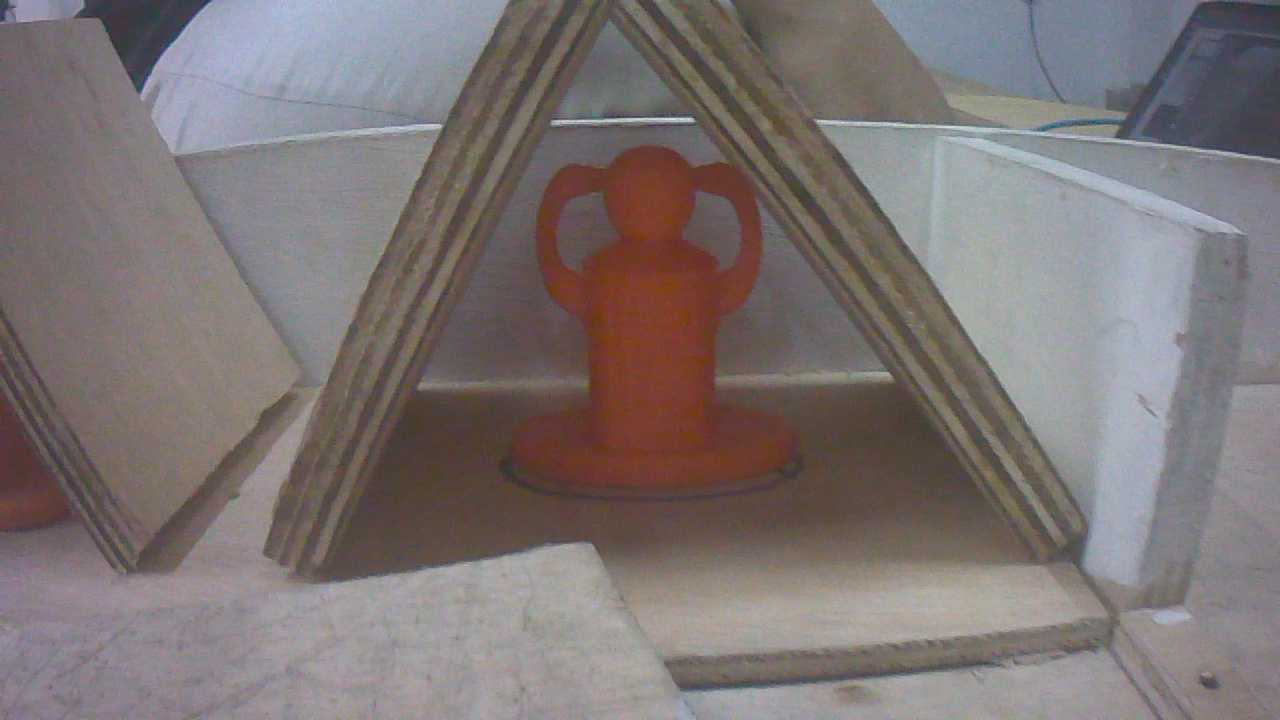real: (522, 130, 793, 502)
